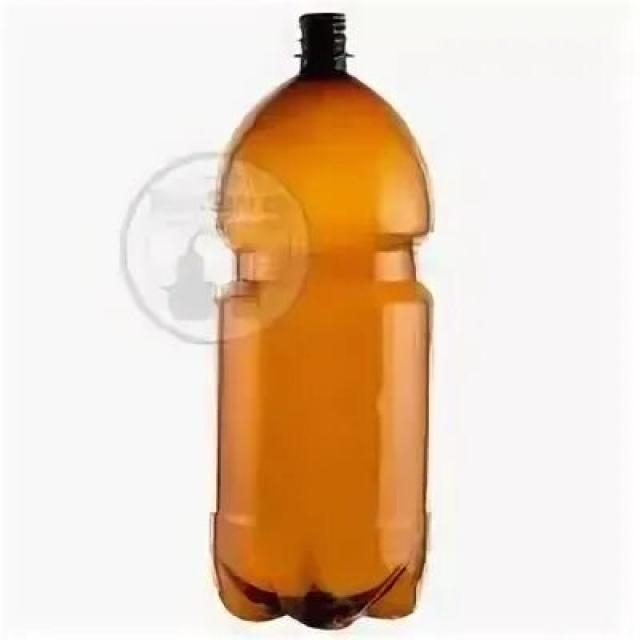brown: (216, 11, 430, 624)
